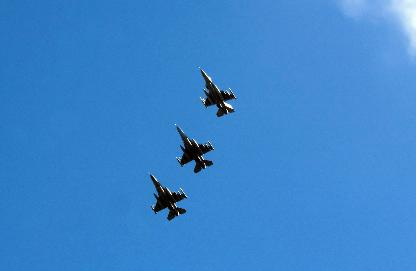F14: (174, 123, 214, 172), (147, 171, 187, 220), (199, 67, 237, 117)
